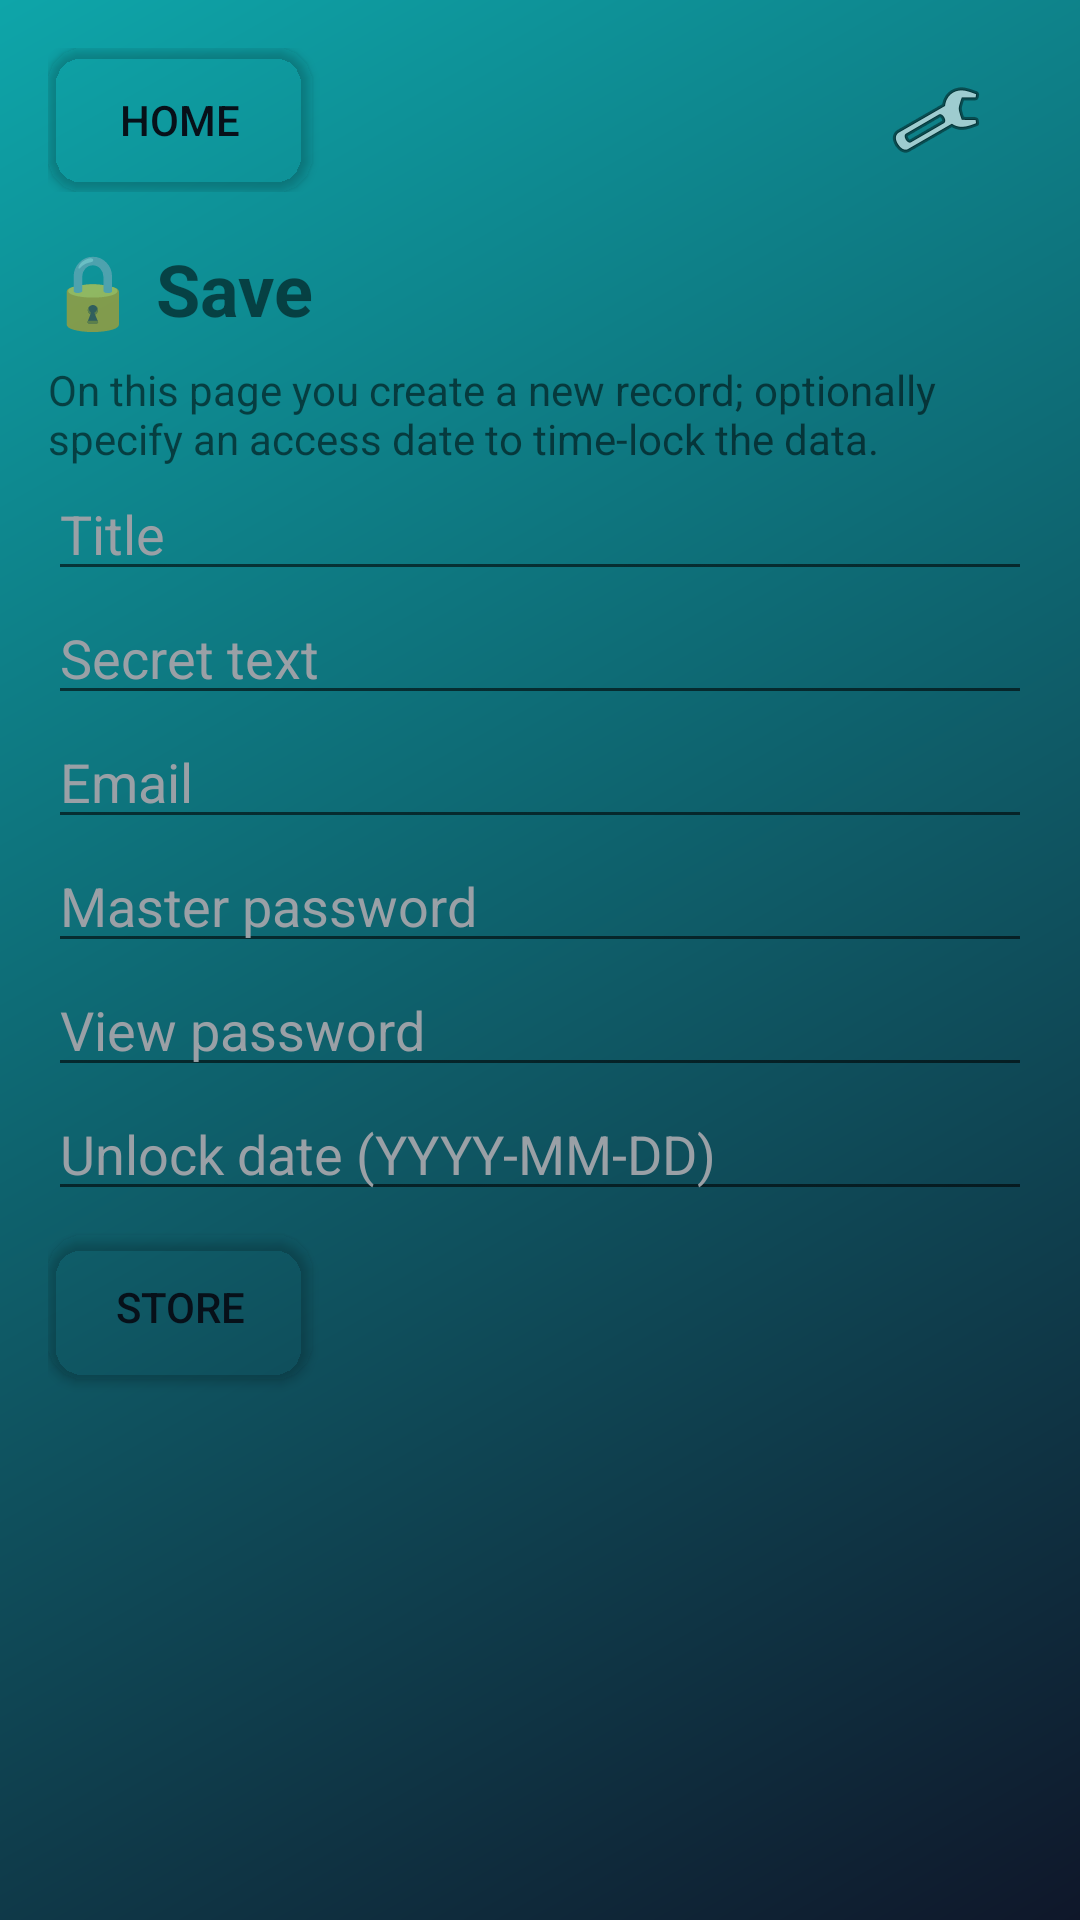

Locate icon controls on the screen. Image size 1080px x 1920px, boxes as (x1, y1, x2, y2).
Settings: (893, 87, 979, 153)
